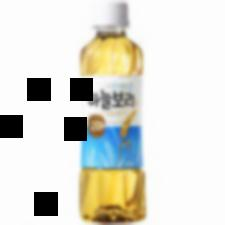haneulbori: (65, 0, 160, 223)
